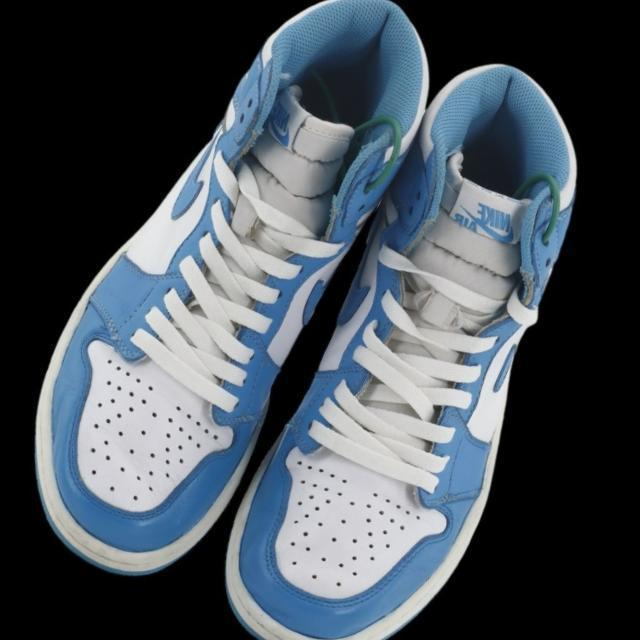nike original jordan 1: (0, 0, 459, 610), (190, 41, 640, 640)
